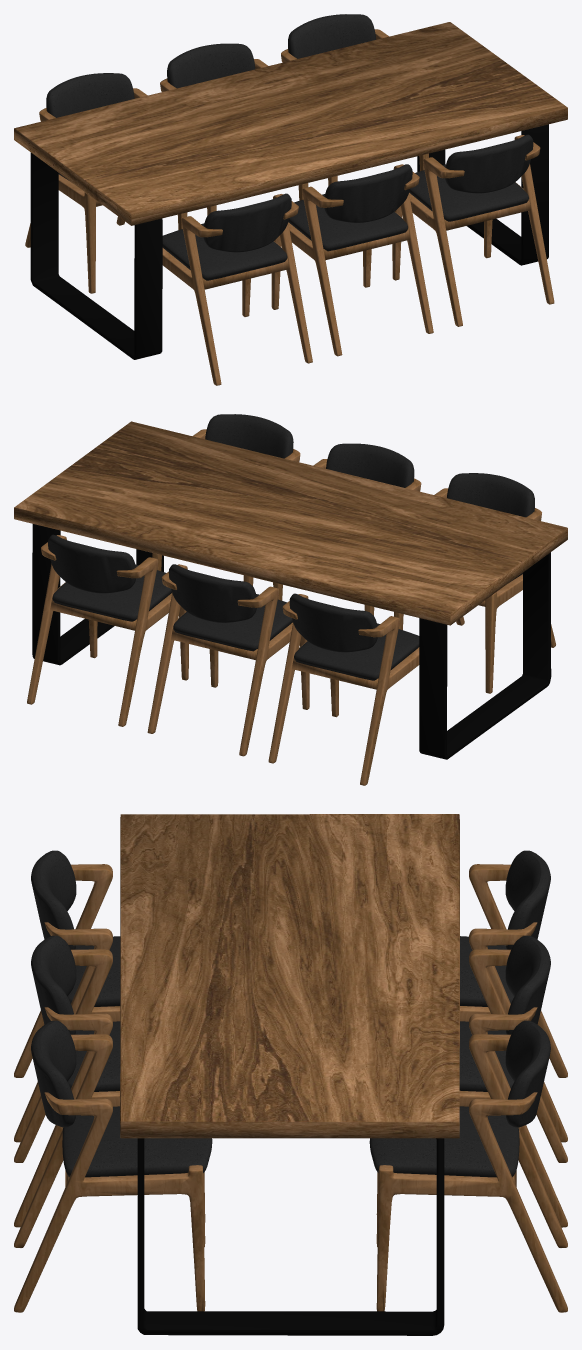
File: dining.glb
3 views of the same model, one above another, from view 1: azimuth 30°, elevation 25°; view 2: azimuth 150°, elevation 25°; view 3: azimuth 270°, elevation 25° (orthographic). The views are drawn at different scales.
Parts seen in each view (by area): view 1: Table_Table_0, Chair.005_Material.003_0; view 2: Table_Table_0, Chair.005_Material.003_0; view 3: Table_Table_0, Chair.005_Material.003_0.
Boxes of the visible parts, <box> form: Table_Table_0: <box>14,22,567,359</box>; Chair.005_Material.003_0: <box>25,14,554,385</box>; Table_Table_0: <box>14,421,567,759</box>; Chair.005_Material.003_0: <box>27,414,555,785</box>; Table_Table_0: <box>120,814,459,1335</box>; Chair.005_Material.003_0: <box>14,850,567,1312</box>.
Bounding box in the file's own units: 3.01 × 1.08 × 2.29.
2 materials, 2 textured.
